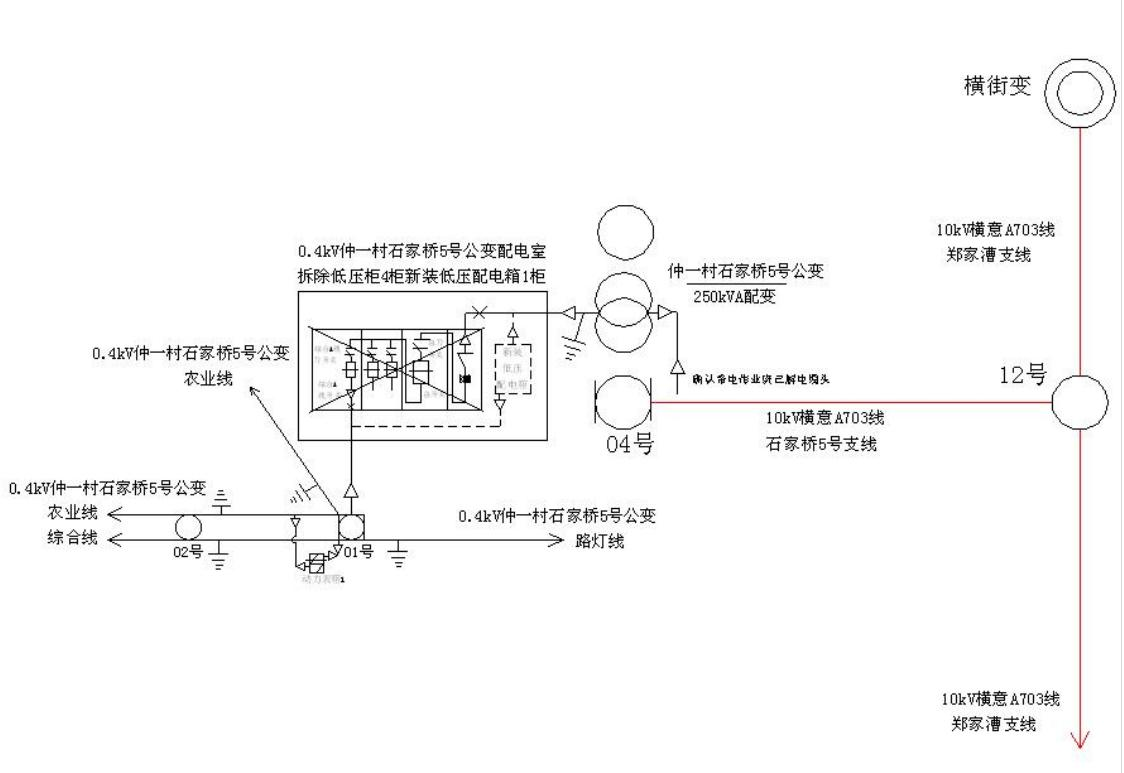t12: (1034, 52, 1122, 135), (1034, 365, 1119, 443), (584, 199, 665, 267)
t14: (581, 365, 662, 433)
t16: (167, 505, 206, 550)
t25: (591, 262, 662, 359)
t8: (553, 318, 594, 369), (379, 533, 419, 576), (281, 474, 327, 509), (205, 483, 235, 518), (204, 536, 232, 573)
t9: (519, 518, 581, 558), (1060, 702, 1100, 755), (93, 519, 143, 560), (236, 375, 277, 416), (96, 492, 143, 524)
